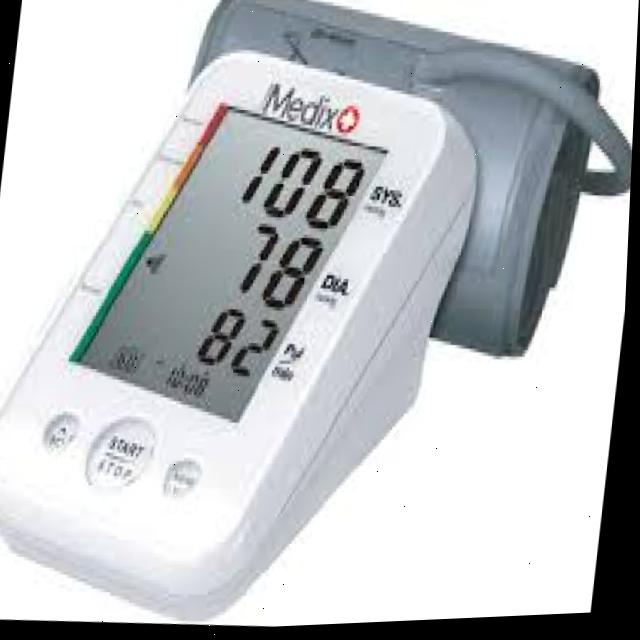dia: (222, 206, 335, 321)
pul: (188, 290, 287, 388)
ssd: (75, 68, 390, 446)
sys: (227, 128, 377, 244)
